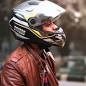helmets: (6, 0, 66, 50)
